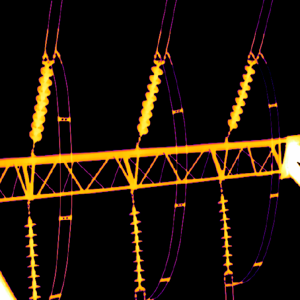insulator: (136, 63, 161, 135), (30, 61, 51, 141), (229, 64, 253, 130), (132, 205, 142, 285), (27, 216, 36, 300), (221, 195, 229, 265)
